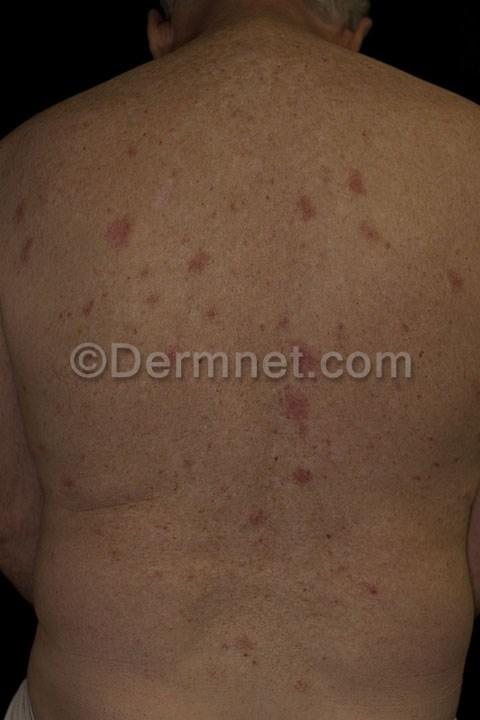Eczema: (258, 302, 358, 378), (215, 479, 303, 554), (320, 540, 400, 613), (192, 83, 272, 150), (392, 428, 465, 500), (262, 377, 336, 446), (202, 612, 276, 677), (26, 434, 93, 503), (329, 59, 395, 128), (75, 520, 137, 588), (198, 170, 259, 237), (267, 80, 330, 142), (220, 34, 299, 78), (80, 90, 147, 141), (86, 208, 153, 257), (139, 56, 191, 119), (151, 556, 212, 609), (146, 334, 205, 388), (127, 262, 174, 324), (174, 242, 230, 291), (278, 190, 331, 241), (435, 247, 476, 309), (273, 658, 328, 704), (107, 127, 152, 183), (347, 213, 394, 264), (334, 150, 377, 201), (166, 438, 213, 482), (183, 33, 226, 80), (286, 454, 334, 492), (390, 309, 432, 352), (195, 302, 238, 344), (155, 158, 190, 207), (67, 291, 106, 331), (4, 196, 46, 229), (10, 230, 45, 267)
